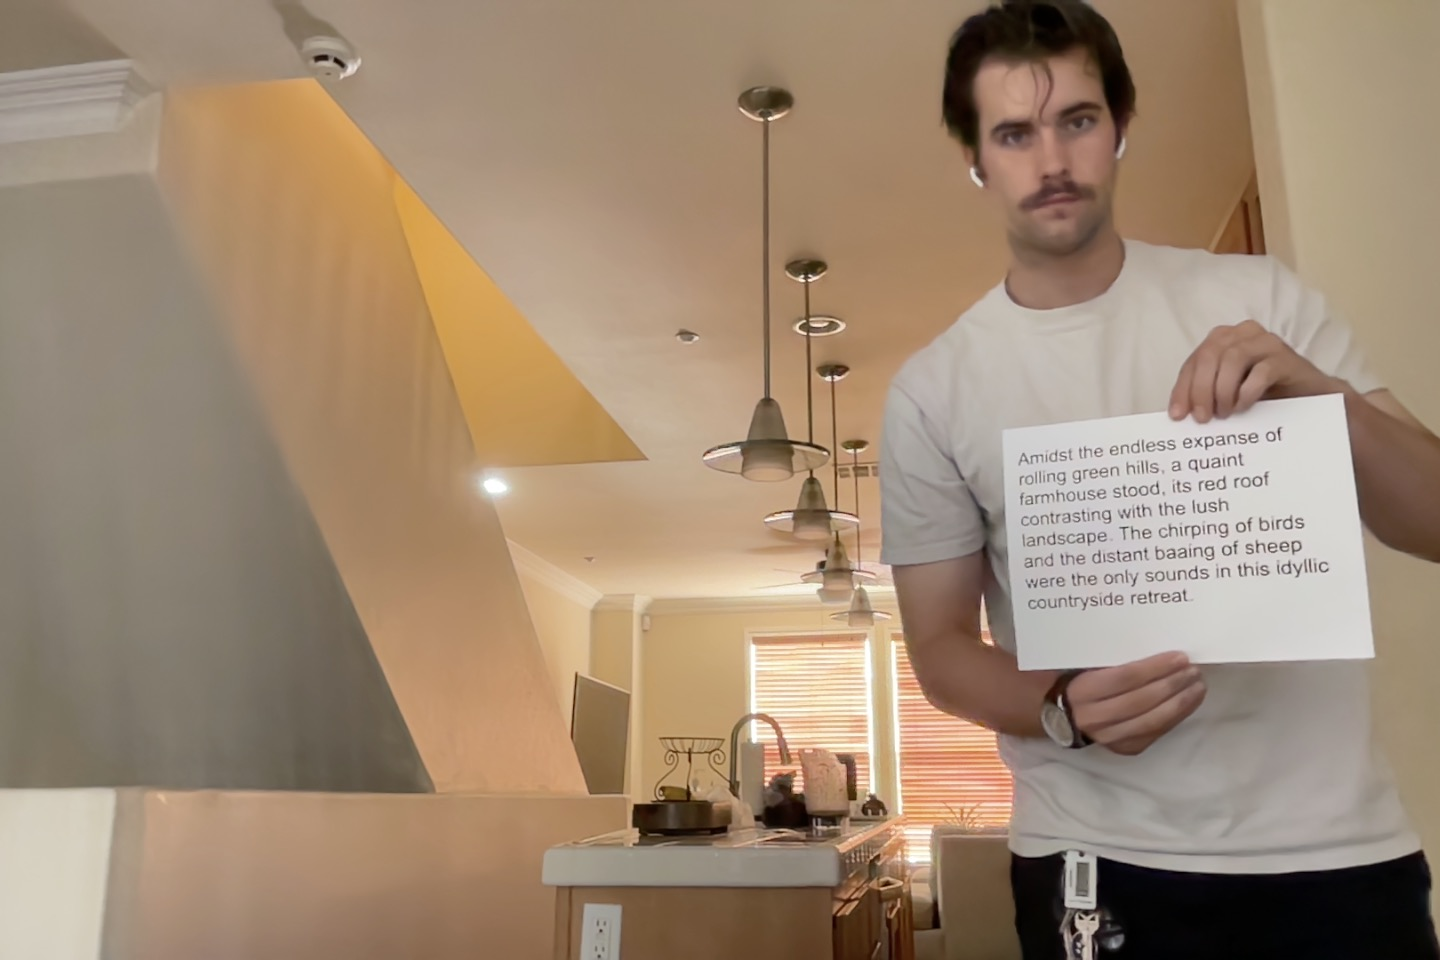paragraph: (1015, 420, 1336, 613)
